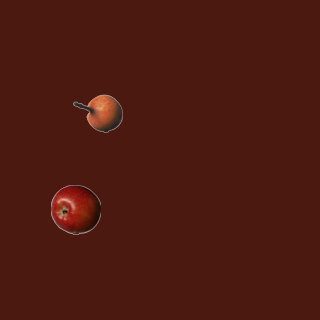Apple Braeburn: (50, 184, 100, 234)
Granadilla: (72, 88, 122, 138)
